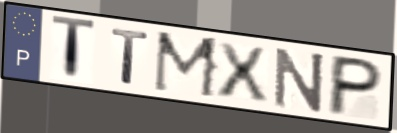M: (150, 29, 222, 102)
N: (272, 45, 327, 114)
P: (324, 53, 387, 118)
T: (50, 13, 99, 85), (109, 26, 152, 88)
X: (214, 40, 271, 104)
